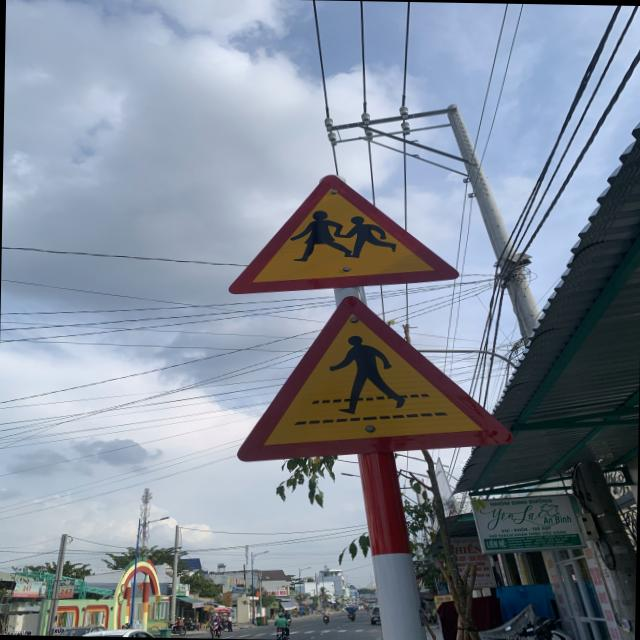Duong_Nguoi_Di_Bo_Sang_Ngang: (236, 290, 514, 466)
Vong_Xuyen: (228, 172, 460, 300)
